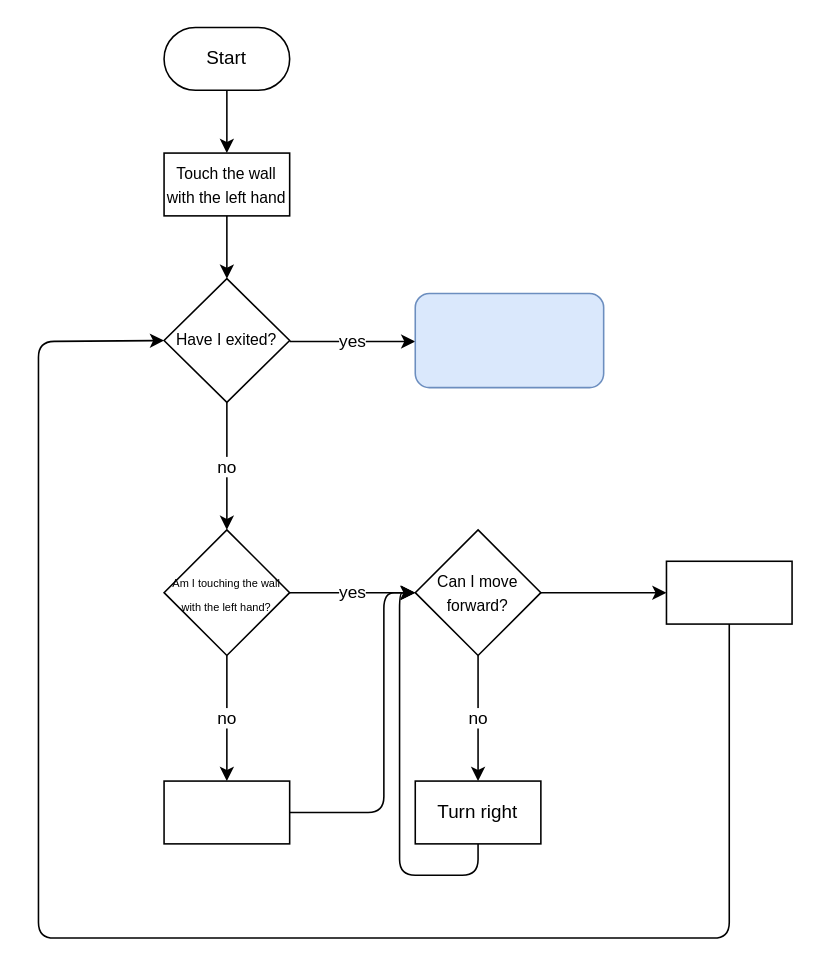
The diagram is 820 pixels wide and 978 high, and some of its shapes have lost their labels. The shapes that lost their labels are listed below. From the top down, each one's centre as x and y in pixels, then its label:
pixel 509 340: Stop the loop
pixel 728 592: Step forward
pixel 226 812: Turn left
